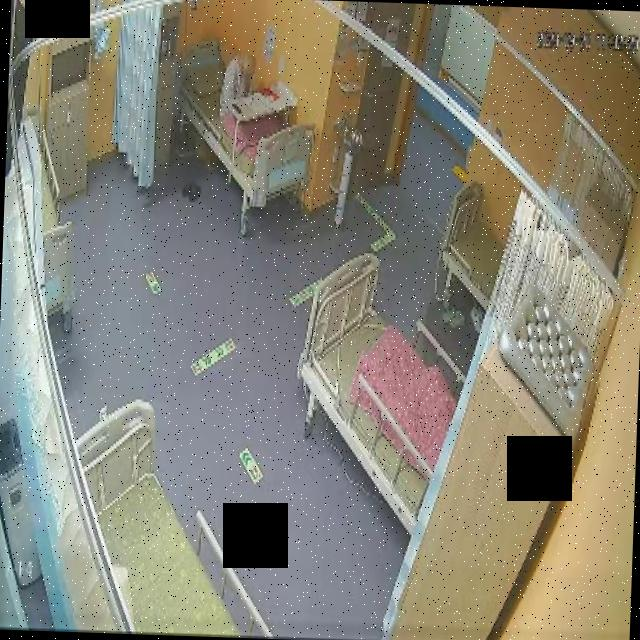bed: (67, 401, 280, 638), (294, 252, 461, 532), (168, 37, 319, 210), (438, 180, 506, 313)
patient: (218, 51, 258, 121)
sit: (218, 46, 256, 115)
